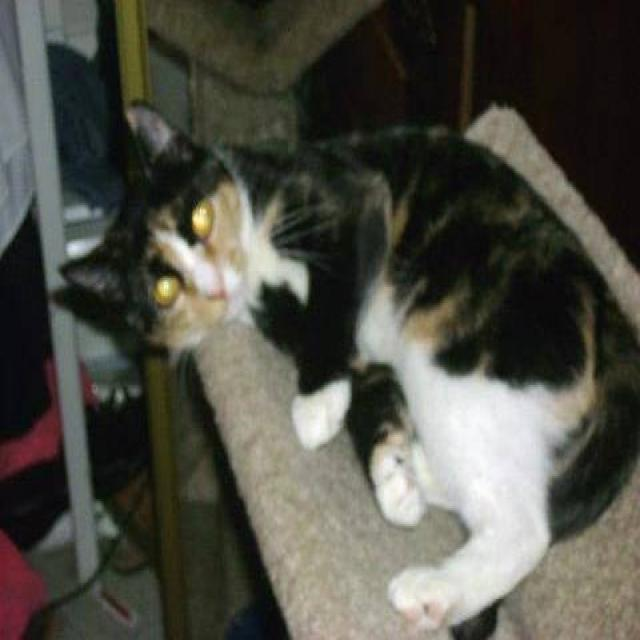cat: (56, 96, 639, 638)
